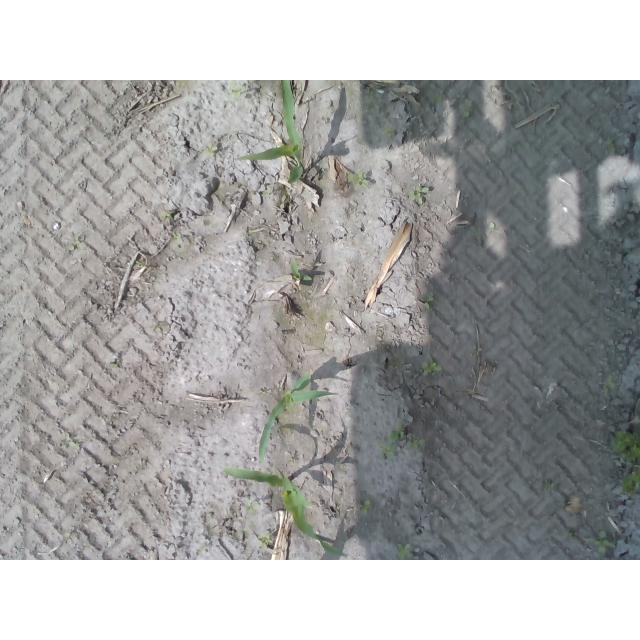Maize: (222, 466, 347, 558), (236, 80, 307, 184), (257, 373, 337, 463), (288, 261, 314, 284)
Weeds: (376, 425, 409, 456), (612, 430, 640, 466), (622, 470, 640, 498), (348, 171, 369, 188), (409, 186, 430, 203), (591, 538, 613, 554), (422, 360, 440, 379), (395, 544, 413, 560), (407, 438, 426, 451), (257, 535, 272, 549), (204, 142, 216, 157), (359, 499, 371, 514), (383, 127, 397, 138), (160, 212, 171, 221)
